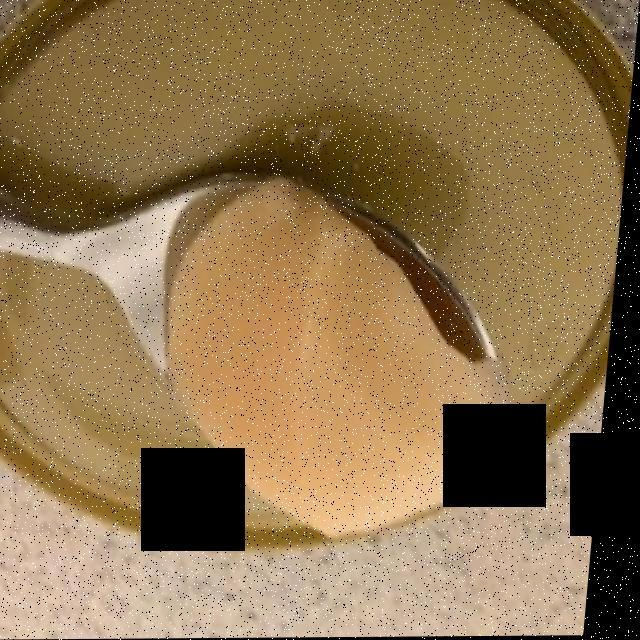honey: (174, 186, 503, 532)
